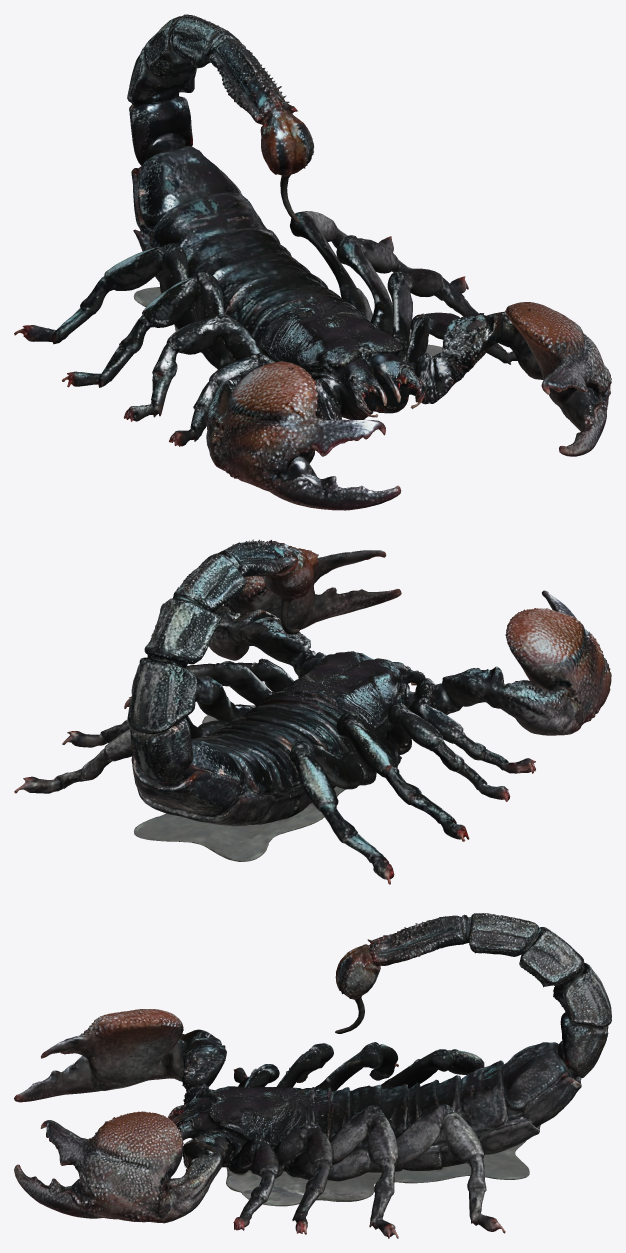
3 renders of one model, top to bottom at view 1: azimuth 30°, elevation 25°; view 2: azimuth 150°, elevation 25°; view 3: azimuth 270°, elevation 25°, orthographic. The views are drawn at different scales.
Visible parts, largest first — view 1: tripo_node_cc5ee8cf-522d-4d9b-90c4-c1dd776414fe; view 2: tripo_node_cc5ee8cf-522d-4d9b-90c4-c1dd776414fe; view 3: tripo_node_cc5ee8cf-522d-4d9b-90c4-c1dd776414fe.
Part boxes in pixels (x1,y1,x2,y2): tripo_node_cc5ee8cf-522d-4d9b-90c4-c1dd776414fe: [14, 14, 611, 510]; tripo_node_cc5ee8cf-522d-4d9b-90c4-c1dd776414fe: [14, 539, 611, 884]; tripo_node_cc5ee8cf-522d-4d9b-90c4-c1dd776414fe: [14, 913, 611, 1238].
Bounding box in the file's own units: 0.6683 × 0.4396 × 0.9802.
Materials: 1 (1 with a texture image).
